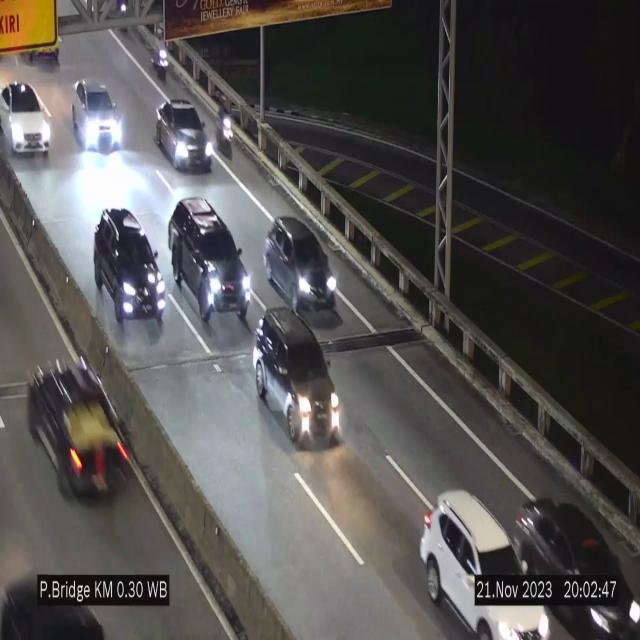Car: (22, 333, 132, 515), (421, 491, 551, 639), (252, 306, 346, 450), (169, 191, 252, 333), (94, 202, 170, 330), (261, 211, 338, 312), (72, 78, 127, 151), (155, 99, 211, 170), (0, 82, 50, 155)
Motorcycle: (213, 100, 237, 164), (152, 34, 174, 90)
